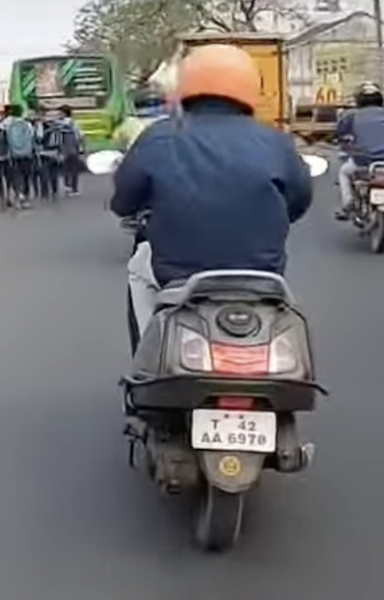motor: (85, 147, 332, 547)
number: (189, 410, 276, 453)
with helmet: (175, 45, 261, 115)
